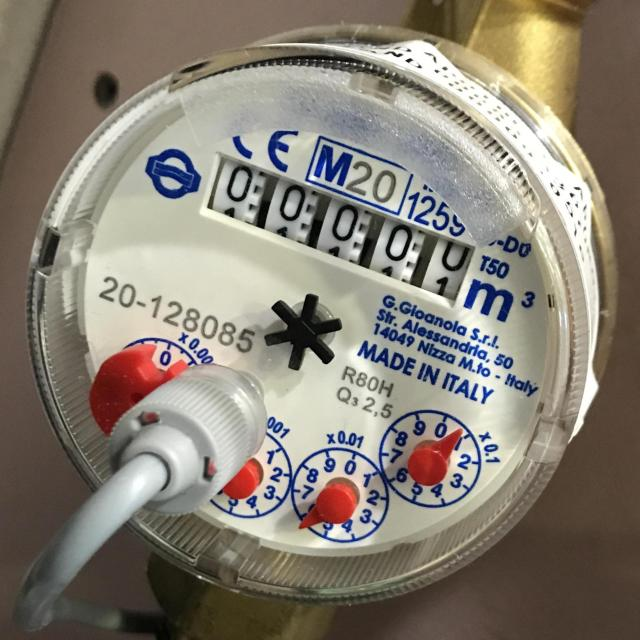gaz_meter: (81, 68, 555, 554)
indication: (205, 146, 485, 304)
